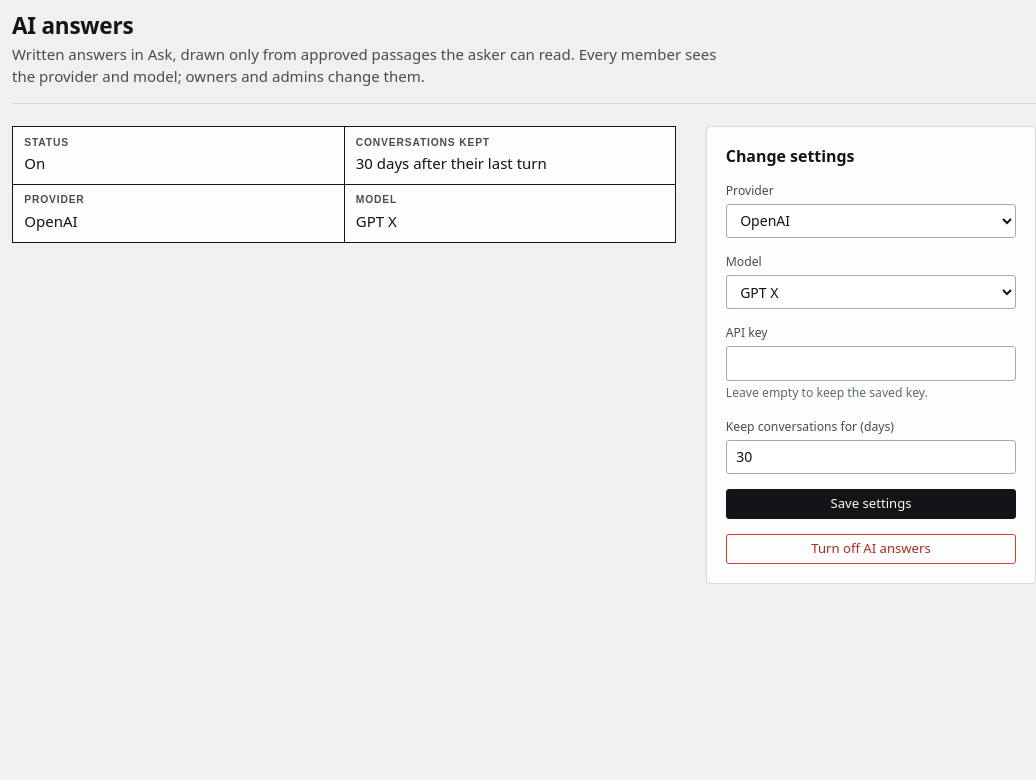
Scenario: AI settings page › shows how many conversations a shorter retention deletes and saves only after confirmation
Replace the text in the number field labelled "Keep conversations for (days)" with "7": point(871, 457) [726,440,1016,474]
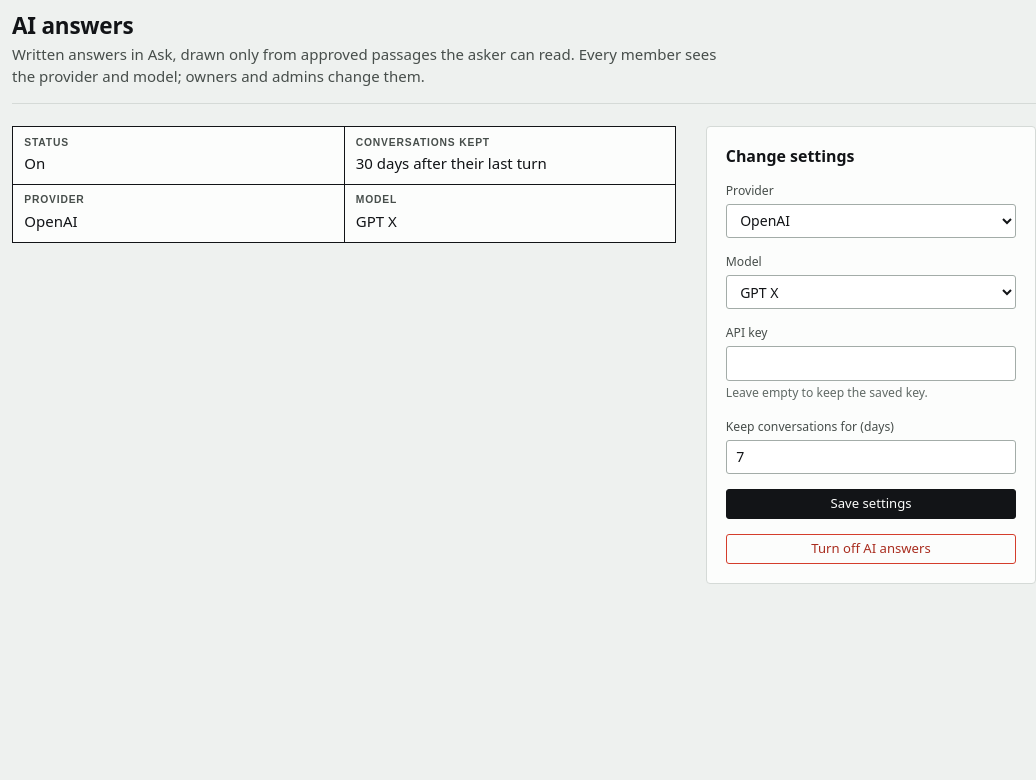
Submit the form, box [706,126,1035,584]
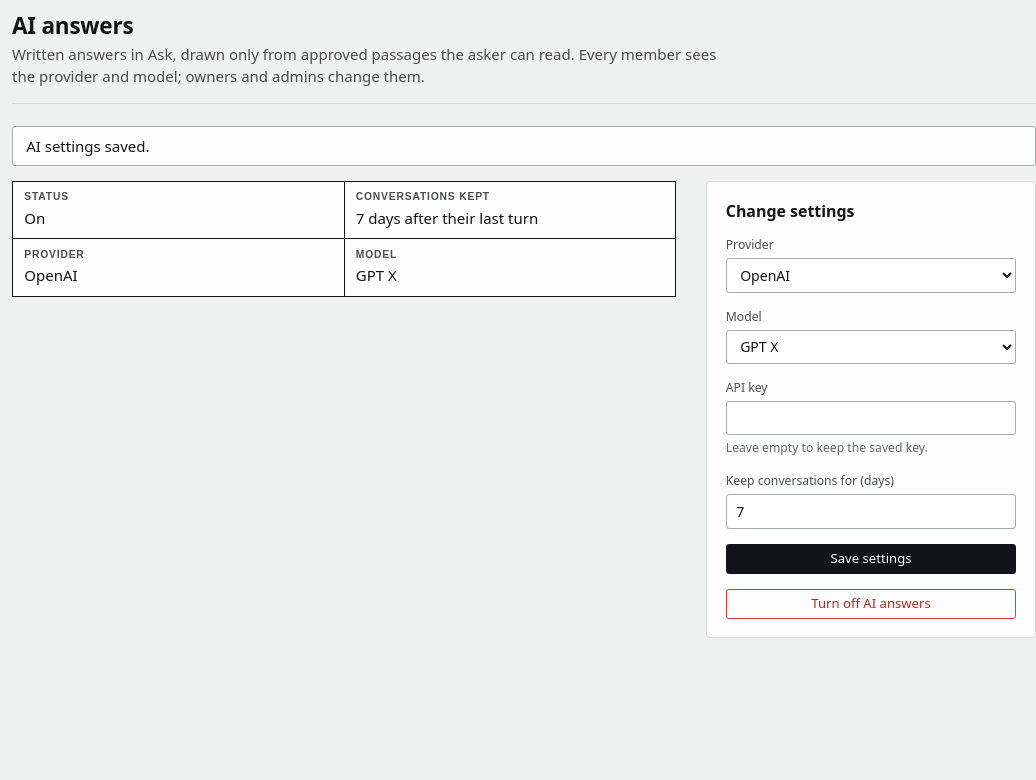
Now the text "AI settings saved." is shown, box [12,126,1035,166]
